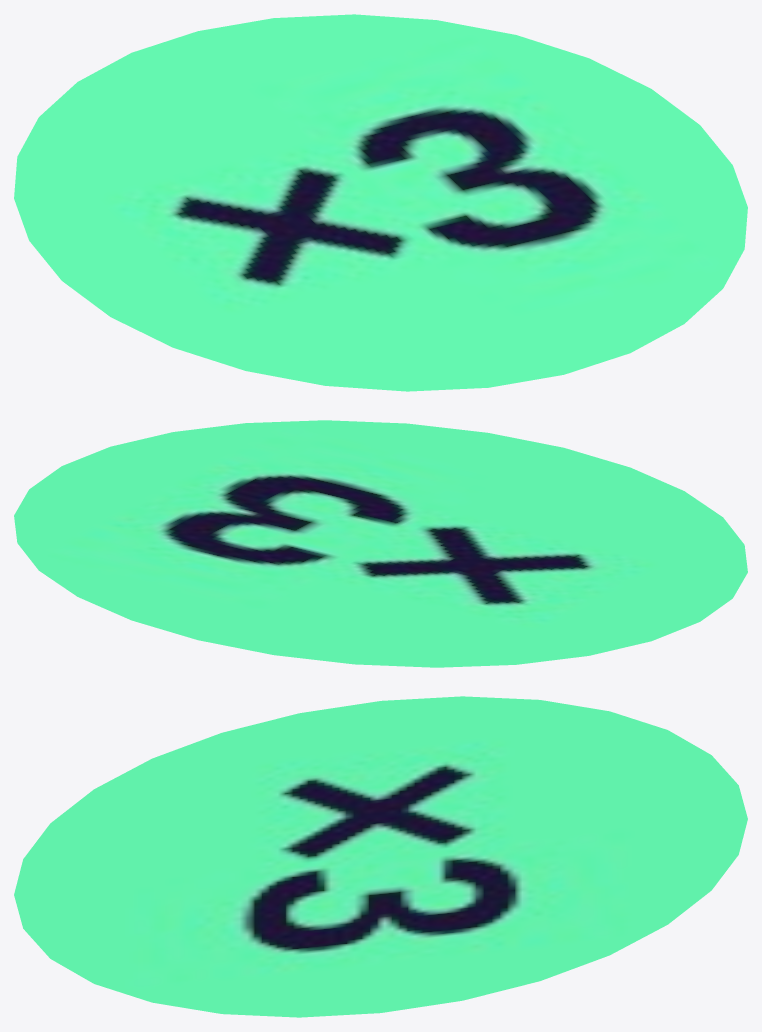
File: pp_light_mult3.glb
The picture shows the model from 3 angles, top to bottom: view 1: azimuth 30°, elevation 25°; view 2: azimuth 150°, elevation 25°; view 3: azimuth 270°, elevation 25°; orthographic projection.
Visible parts, largest first — view 1: MultLight; view 2: MultLight; view 3: MultLight.
Part boxes in pixels (<box>): MultLight: <box>14,14,747,391</box>; MultLight: <box>14,420,747,667</box>; MultLight: <box>14,696,747,1017</box>.
Size of the model in its own units: 0.025 by 0.00283 by 0.0248.
1 material, 1 textured.
